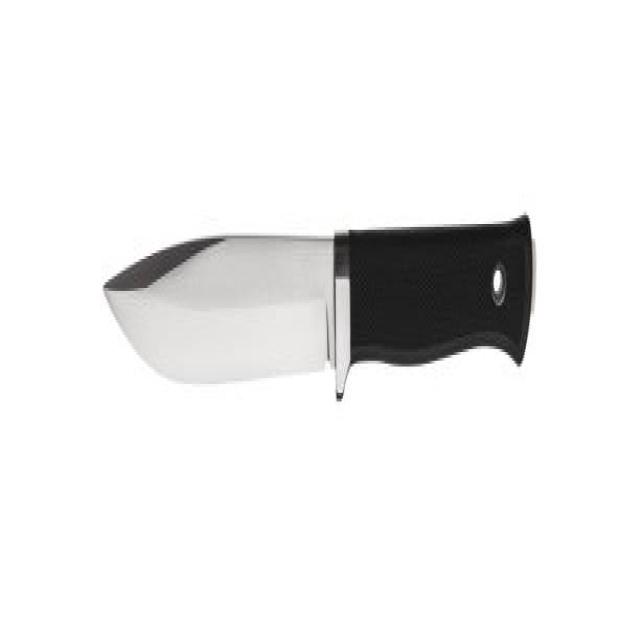knife: (104, 205, 538, 406)
